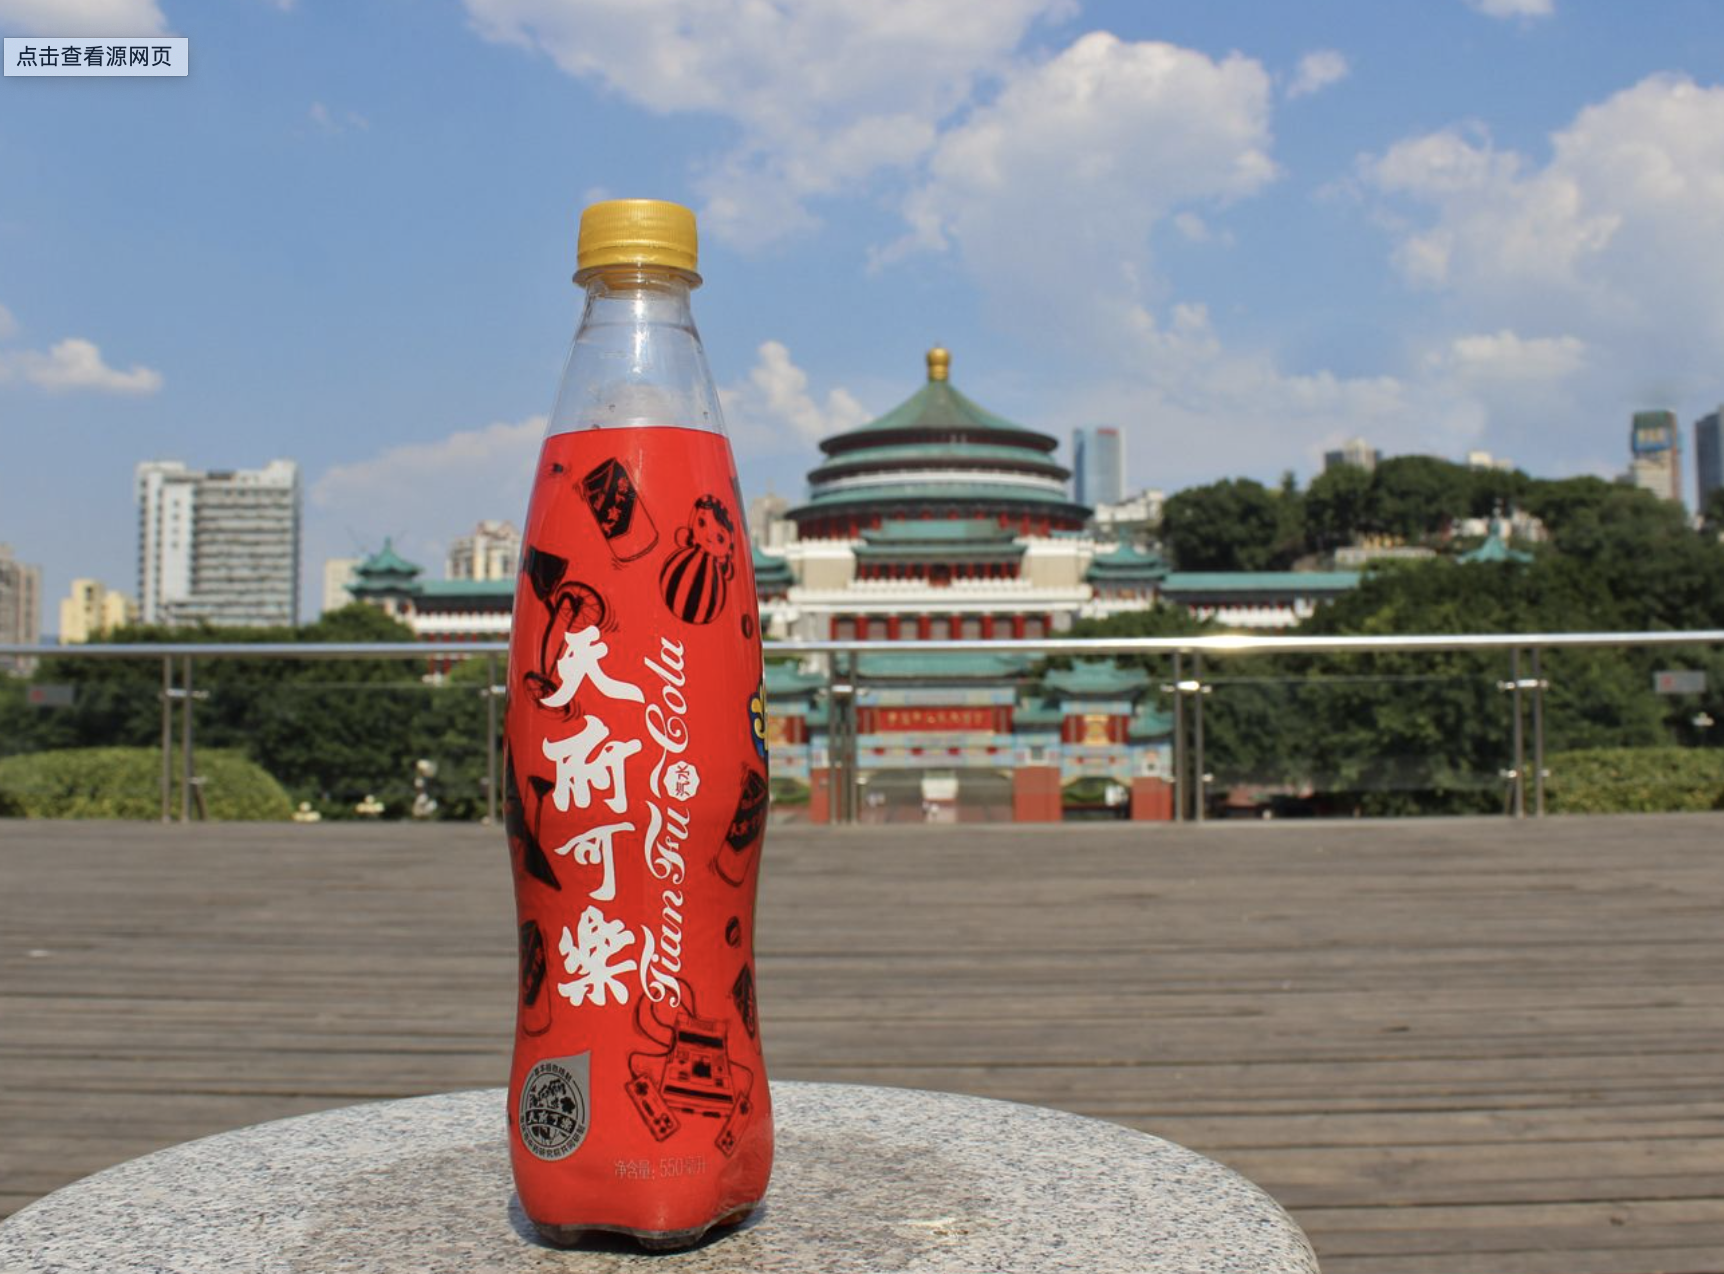天府可乐: (485, 195, 782, 1243)
